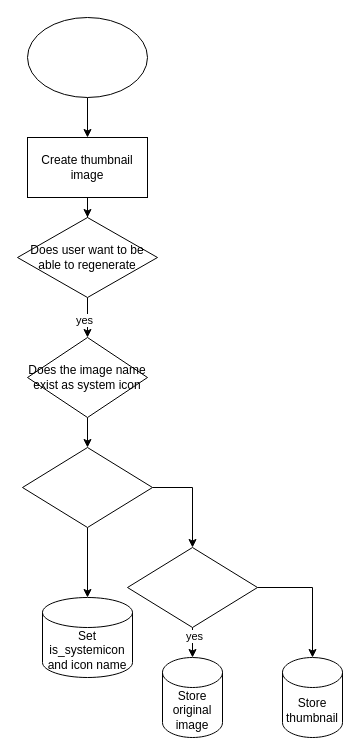
Some shapes in this 360 by 755 pixel diagram are drawn without their labels. The centre of each missing label's shape, as x and y in pixels:
"Is the hash equal" belongs at (87,487).
"Is thumbnail > Original image size" belongs at (192,587).
"User Loads file" belongs at (87,57).
